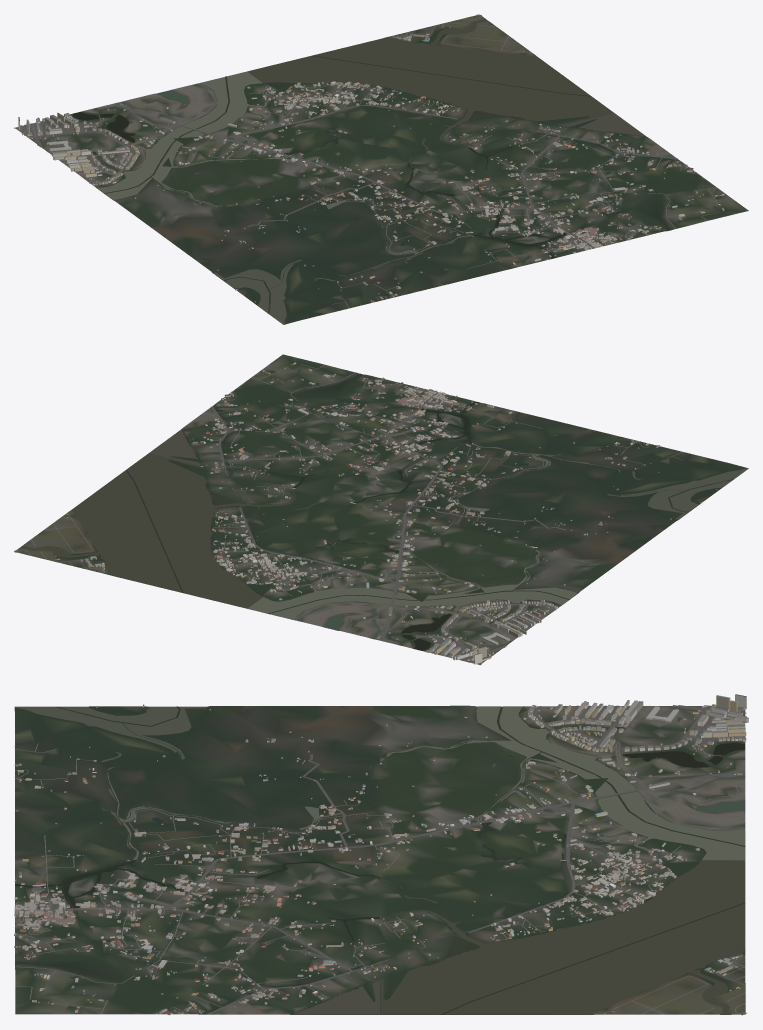
3 views of the same model, one above another, from view 1: azimuth 30°, elevation 25°; view 2: azimuth 150°, elevation 25°; view 3: azimuth 270°, elevation 25° (orthographic). The views are drawn at different scales.
Parts seen in each view (by area): view 1: ground, water, buildings, roads; view 2: ground, water, buildings, roads; view 3: ground, water, buildings, roads.
Boxes of the visible parts, left/top/right/bottom form: ground: left=16, top=15, right=748, bottom=324; water: left=72, top=18, right=678, bottom=324; buildings: left=18, top=25, right=724, bottom=302; roads: left=14, top=14, right=731, bottom=309; ground: left=14, top=354, right=748, bottom=664; water: left=20, top=373, right=748, bottom=650; buildings: left=55, top=362, right=717, bottom=664; roads: left=14, top=364, right=688, bottom=665; ground: left=14, top=705, right=745, bottom=1014; water: left=15, top=706, right=745, bottom=1014; buildings: left=14, top=694, right=748, bottom=1015; roads: left=14, top=705, right=746, bottom=1015.
Size of the model in its own units: 2831 by 61 by 2819.
